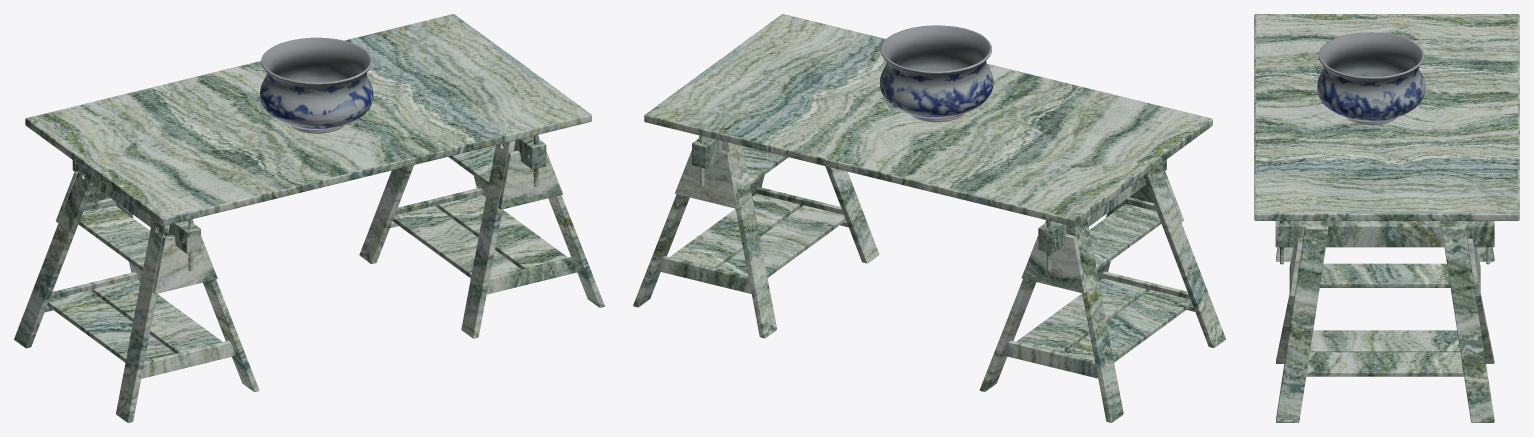
The model's file is incense.glb.
The picture shows the model from 3 angles, left to right: view 1: azimuth 30°, elevation 25°; view 2: azimuth 150°, elevation 25°; view 3: azimuth 270°, elevation 25°; orthographic projection. The views are drawn at different scales.
Bounding box in the file's own units: 1.14 × 0.6124 × 0.5709.
1 material, 1 textured.
